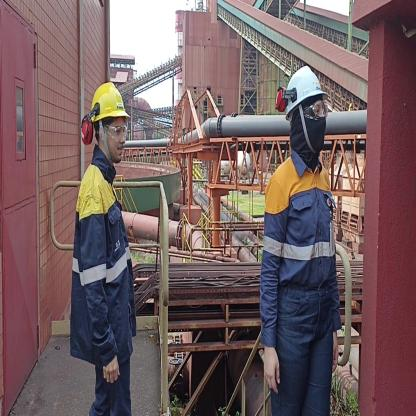Balaclava: (290, 105, 327, 164)
C_eletrica: (66, 165, 141, 368)
Capacete: (277, 62, 329, 103), (85, 80, 128, 120)
Operacional: (261, 158, 342, 334)
